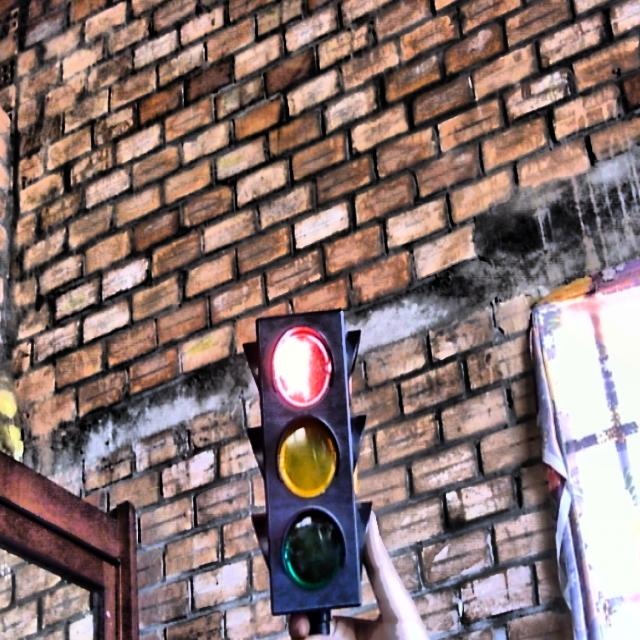red: (262, 319, 345, 411)
